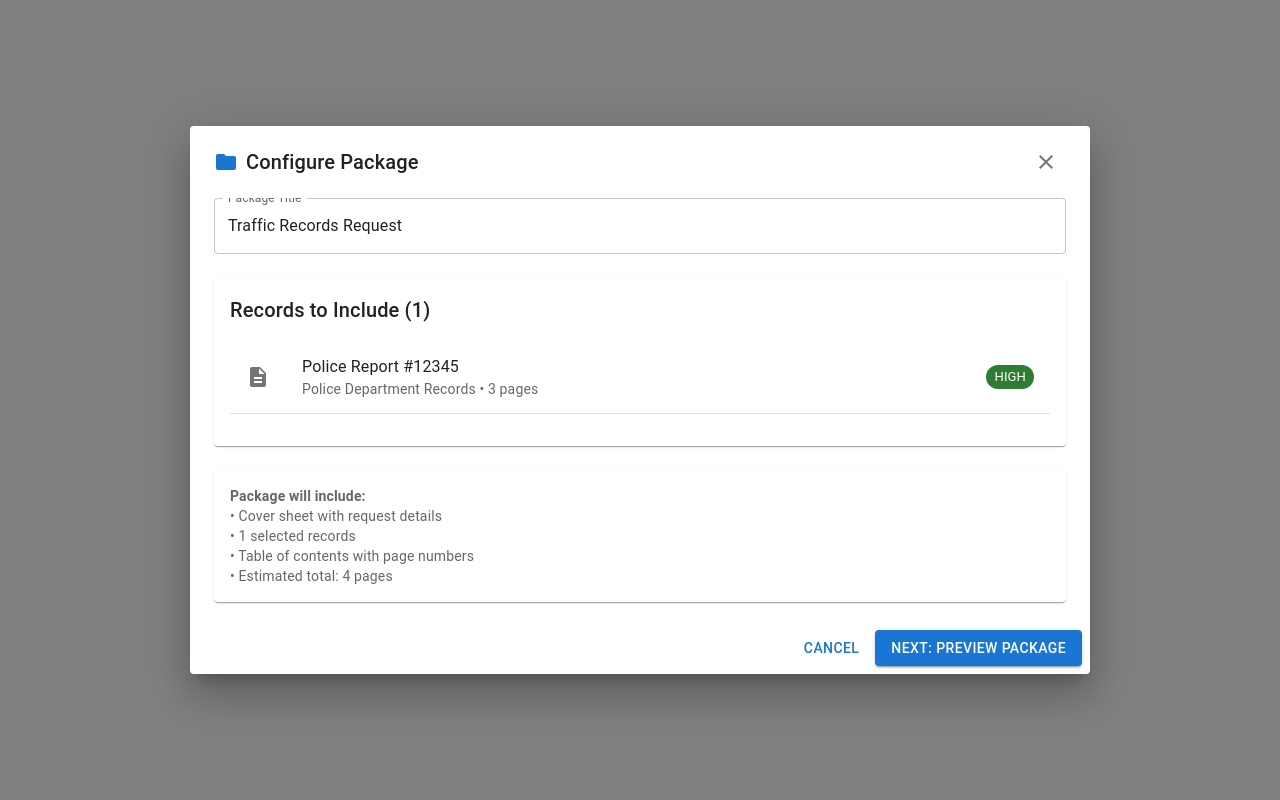
PackageBuilder Component › disables Next button when title is empty
Clear the field labelled "Package Title": (640, 226) 214,198 -> 1066,254
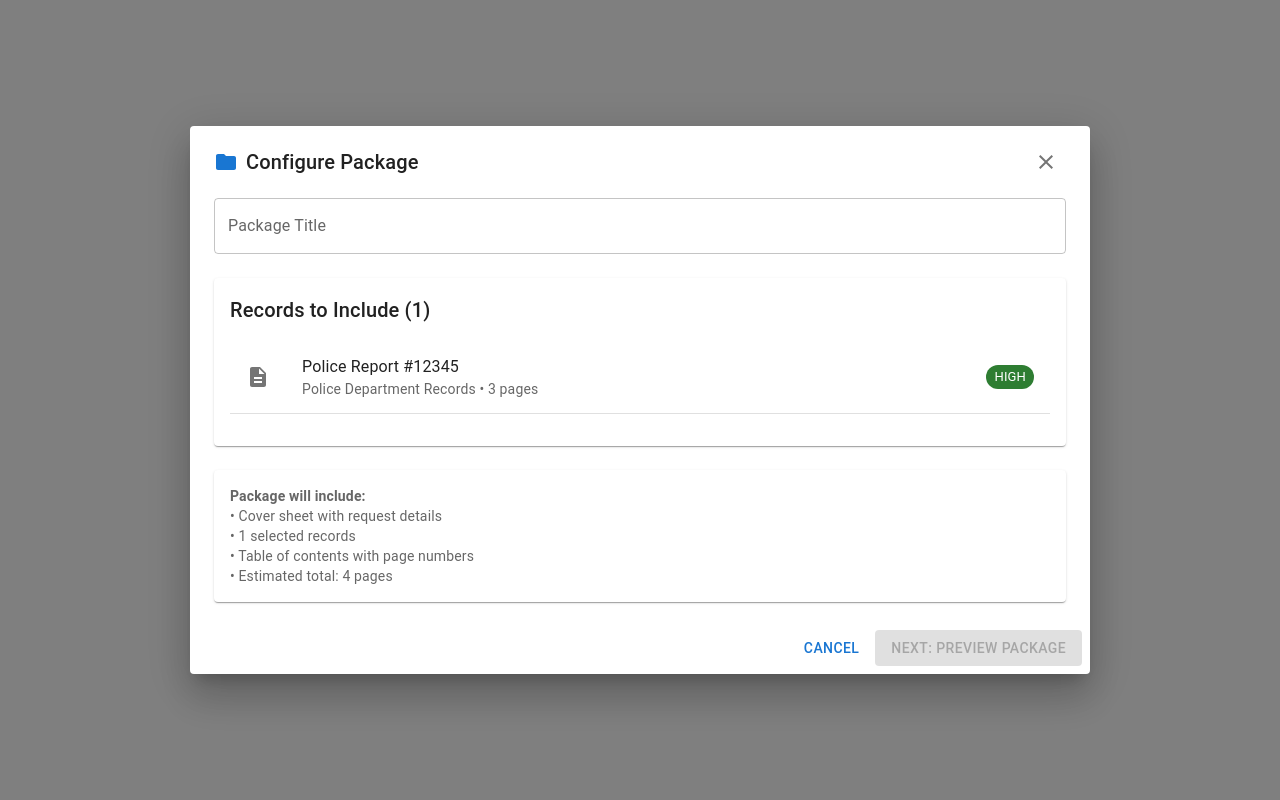
Check: the button "Next: Preview Package" is disabled, box 875,630 -> 1082,666
